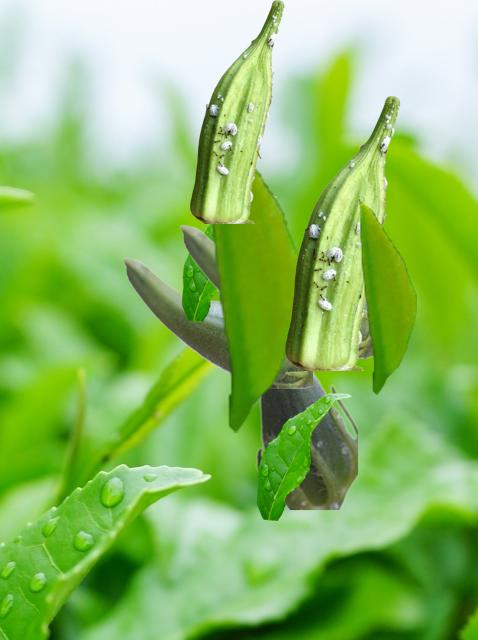okra: (285, 96, 399, 369), (179, 224, 371, 357), (122, 257, 311, 387), (190, 0, 283, 222), (255, 370, 356, 508)
